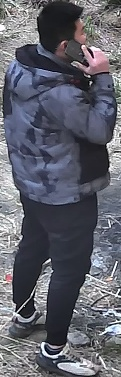phone: (41, 9, 115, 149)
